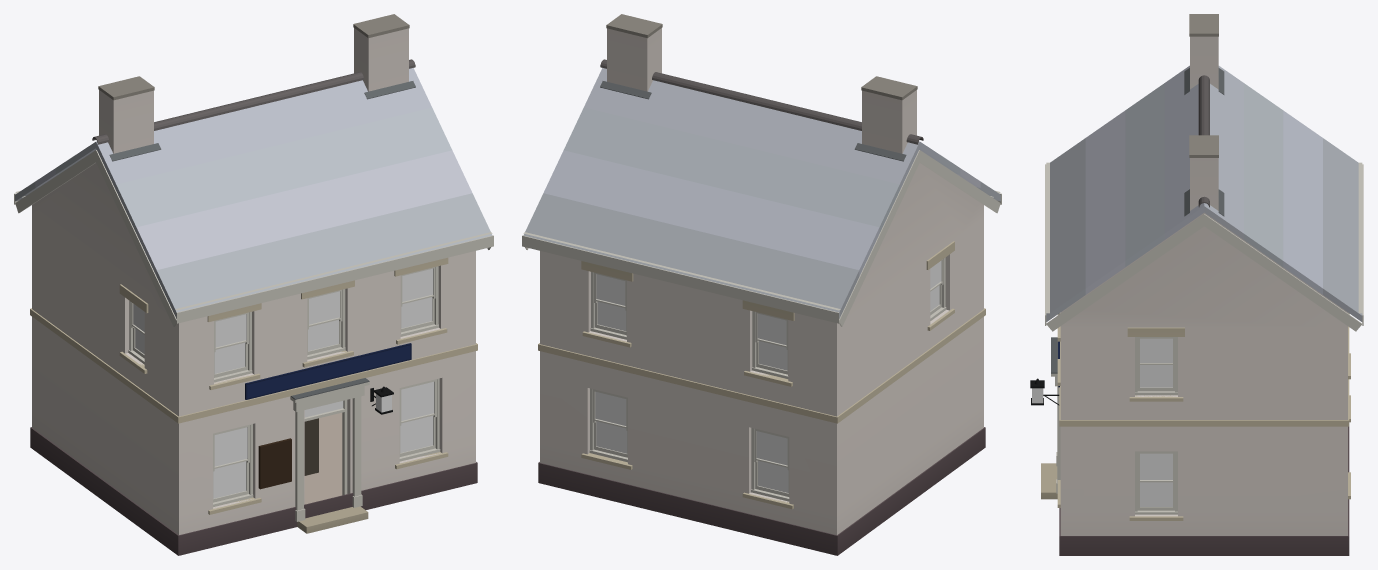
The model's file is town_police_house_a_open_lod2.glb.
3 views of the same model, side by side, from view 1: azimuth 30°, elevation 25°; view 2: azimuth 150°, elevation 25°; view 3: azimuth 270°, elevation 25° (orthographic). The views are drawn at different scales.
Parts seen in each view (by area): view 1: body; view 2: body; view 3: body.
Boxes of the visible parts, bbox=[...] form: body: bbox=[14, 14, 493, 555]; body: bbox=[522, 14, 1001, 555]; body: bbox=[1041, 14, 1363, 555].
Size of what is drawn, in the model's own units: 7.48 by 9.22 by 6.95.
